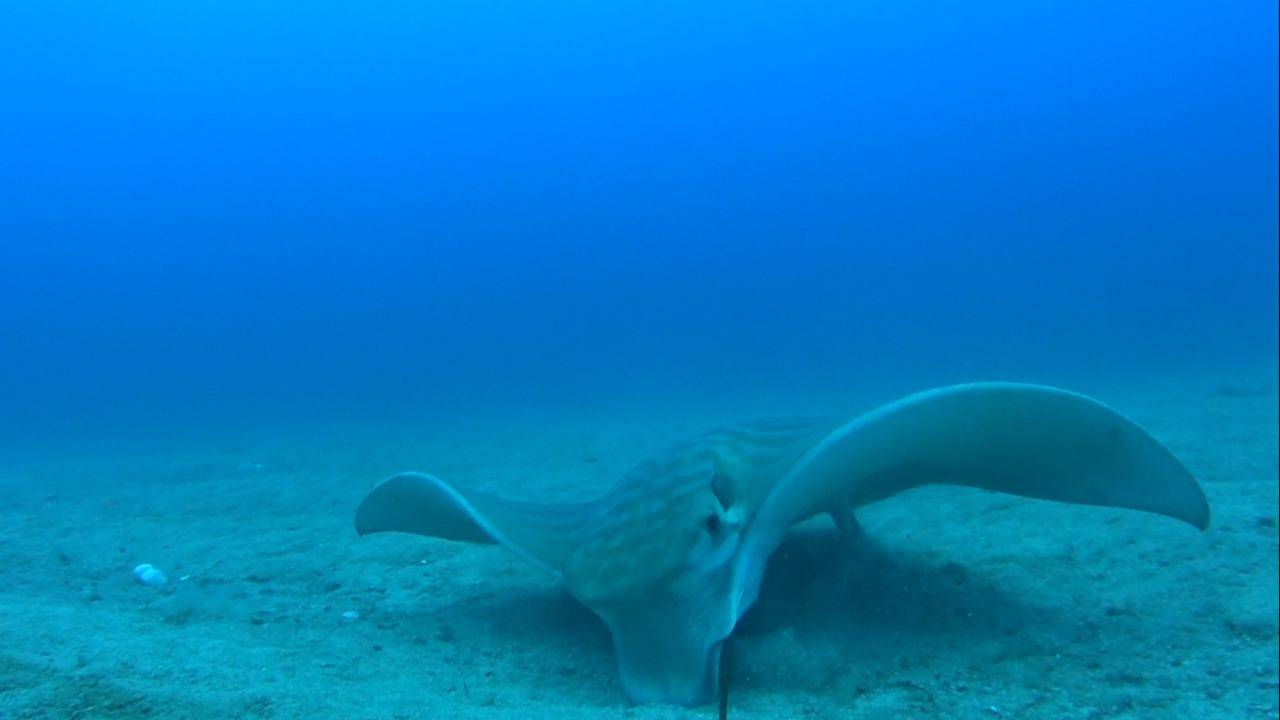myliobatis: (343, 372, 1217, 719)
